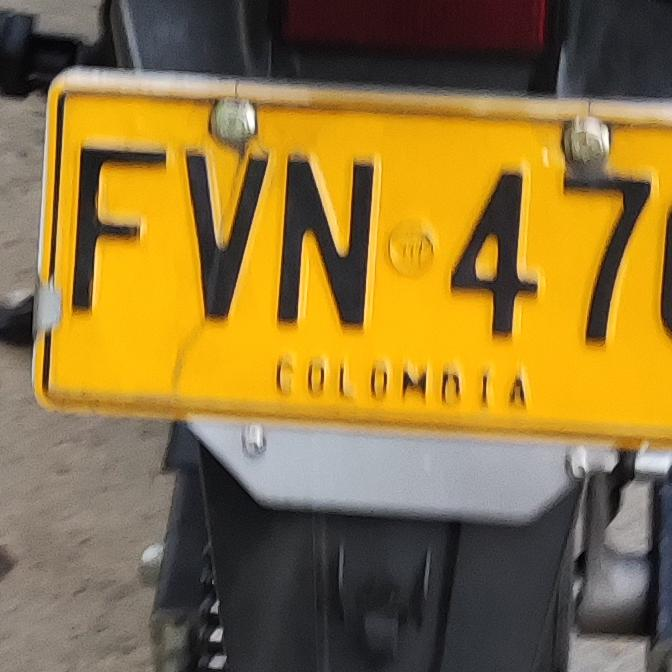plates: (15, 73, 672, 450)
